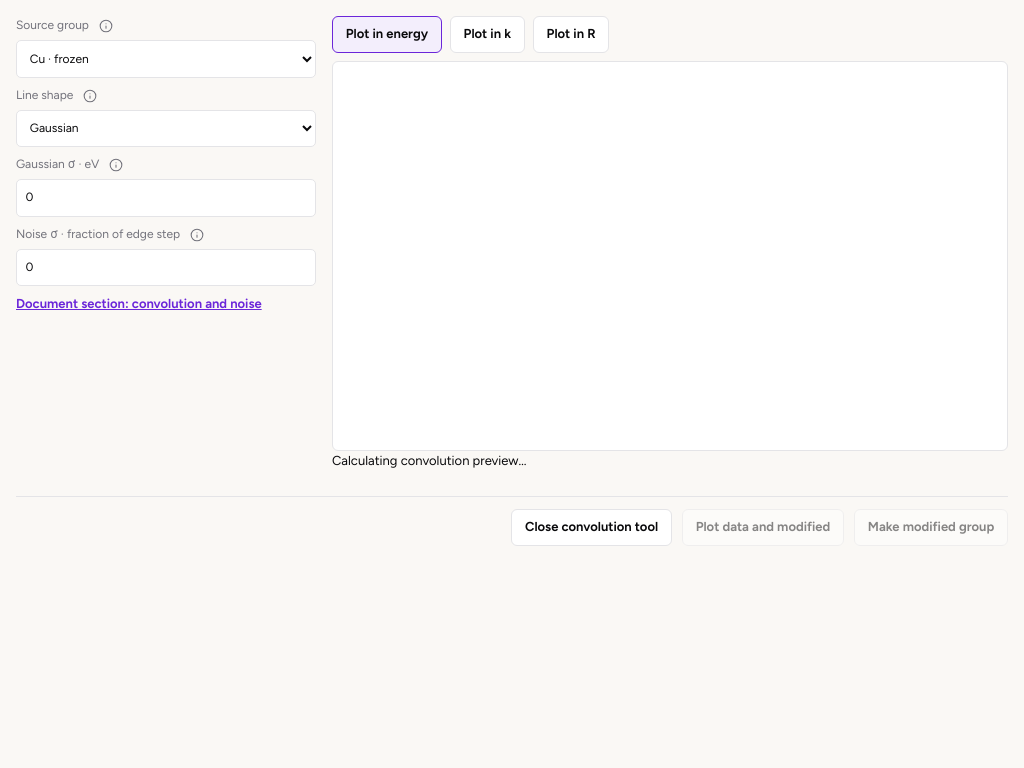
Scenario: discards late previews after editing and rejects a response for the old revision
Replace the text in the number field labelled "Gaussian σ · eV" with "1": coordinates (166, 198) top-left (16, 179), bottom-right (316, 217)
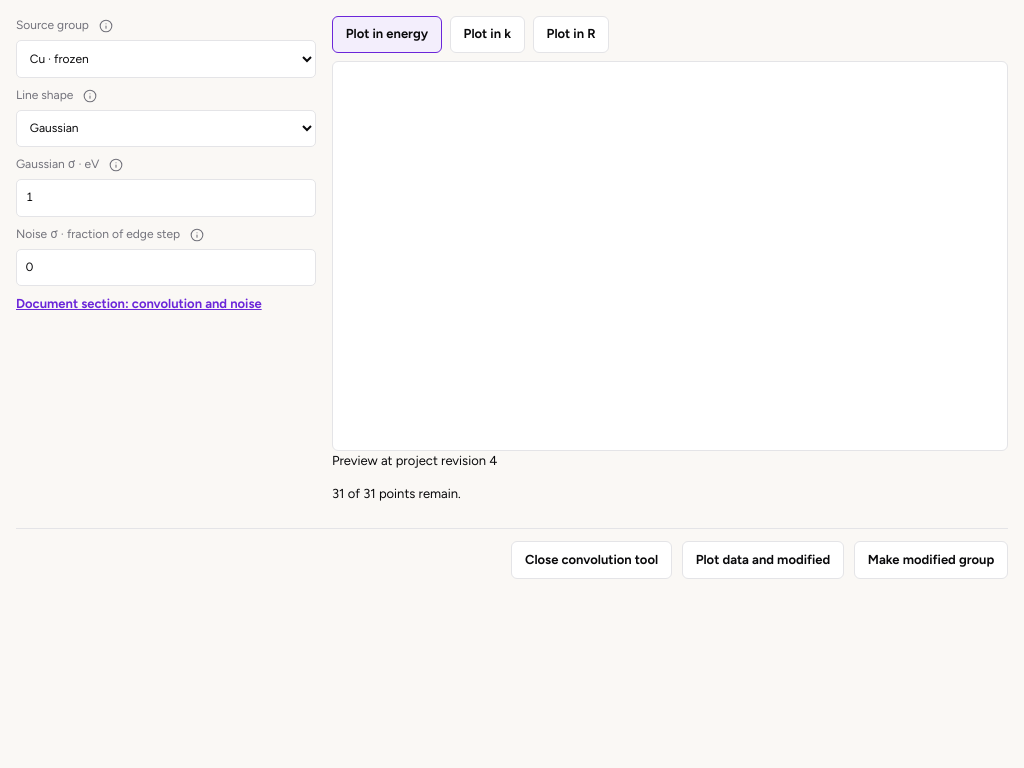
Expected: the button "Make modified group" is enabled, top-left (854, 541), bottom-right (1008, 579)
Replace the text in the number field labelled "Gaussian σ · eV" with "2": coordinates (166, 198) top-left (16, 179), bottom-right (316, 217)
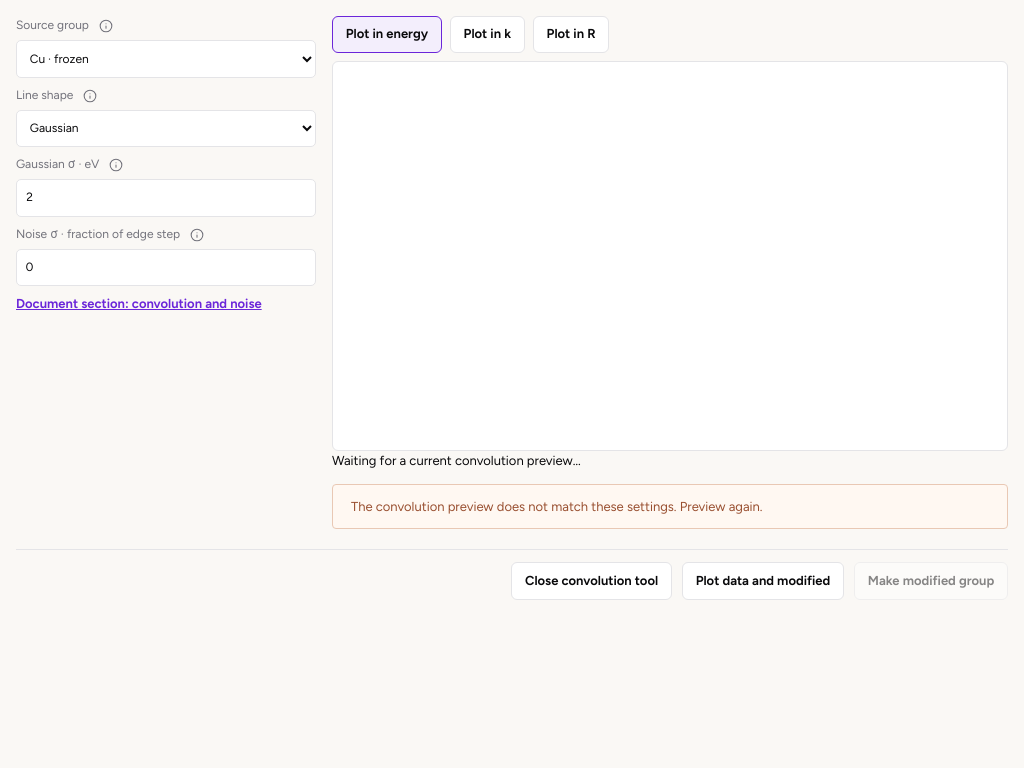
Expected: the message "The convolution preview does not match these settings. Preview again." is shown, top-left (332, 484), bottom-right (1008, 529)
Expected: the button "Make modified group" is disabled, top-left (854, 562), bottom-right (1008, 600)
